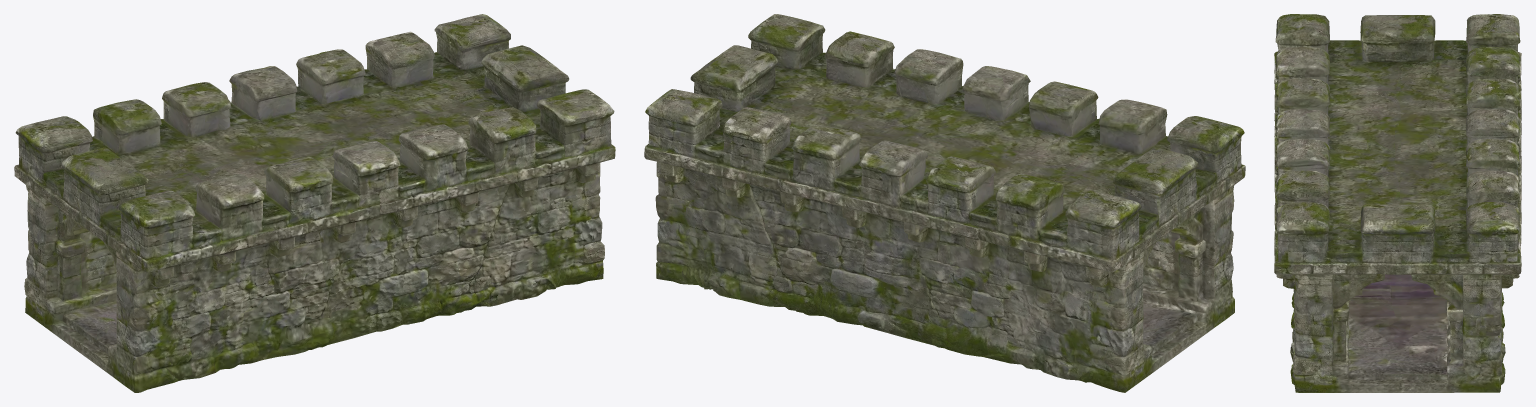
File: wall.glb
The picture shows the model from 3 angles, left to right: view 1: azimuth 30°, elevation 25°; view 2: azimuth 150°, elevation 25°; view 3: azimuth 270°, elevation 25°; orthographic projection. The views are drawn at different scales.
Parts seen in each view (by area): view 1: Mesh_0; view 2: Mesh_0; view 3: Mesh_0.
Boxes of the visible parts, x1=… form: Mesh_0: x1=14, y1=14, x2=615, y2=392; Mesh_0: x1=644, y1=14, x2=1245, y2=392; Mesh_0: x1=1274, y1=14, x2=1521, y2=392.
Size of the model in its own units: 1.9 by 0.706 by 0.9292.
Materials: 1 (1 with a texture image).
